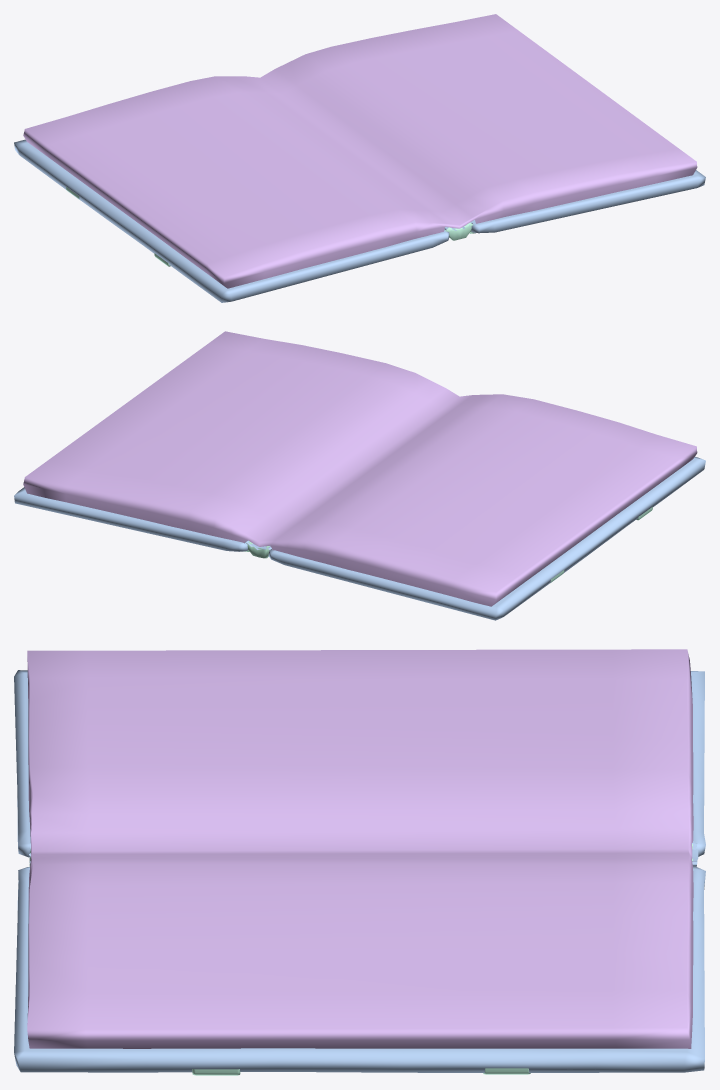
The model's file is Book_Low_Fix.fbx.
The picture shows the model from 3 angles, top to bottom: view 1: azimuth 30°, elevation 25°; view 2: azimuth 150°, elevation 25°; view 3: azimuth 270°, elevation 25°; orthographic projection. The views are drawn at different scales.
Visible parts, largest first — view 1: Pages_Low, Case_Low; view 2: Pages_Low, Case_Low; view 3: Pages_Low, Case_Low, Metal_Low.
Part boxes in pixels (box(x1,y1,x2,y2)): Pages_Low: box(23, 14, 697, 288); Case_Low: box(14, 139, 705, 302); Pages_Low: box(23, 331, 697, 606); Case_Low: box(14, 457, 705, 620); Pages_Low: box(27, 649, 693, 1048); Case_Low: box(14, 670, 705, 1072); Metal_Low: box(29, 844, 692, 1075).
Bounding box in the file's own units: 29.82 × 2.01 × 22.37.
